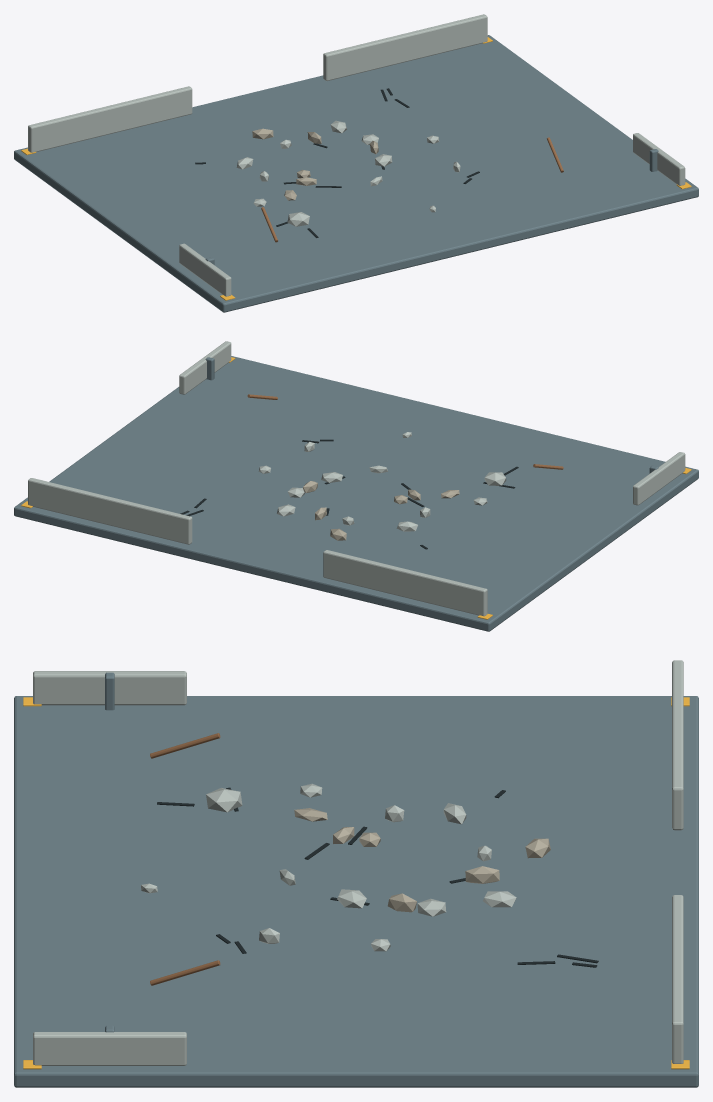
Rendered from industry_garage_d3.glb.
3 renders of one model, top to bottom at view 1: azimuth 30°, elevation 25°; view 2: azimuth 150°, elevation 25°; view 3: azimuth 270°, elevation 25°, orthographic. The views are drawn at different scales.
Visible parts, largest first — view 1: Foundation.027, End bulkhead.068, End bulkhead.069, Side pressure panel.113, Side pressure panel.114; view 2: Foundation.027, End bulkhead.068, End bulkhead.069, Side pressure panel.113, Side pressure panel.114; view 3: Foundation.027, Side pressure panel.114, Side pressure panel.113, End bulkhead.068, End bulkhead.069, Bounded fractured debris.197.
Part boxes in pixels (x1,y1,x2,y2): Foundation.027: (14, 35, 698, 312); End bulkhead.068: (28, 86, 192, 152); End bulkhead.069: (323, 14, 487, 80); Side pressure panel.113: (179, 243, 231, 296); Side pressure panel.114: (633, 133, 685, 185); Foundation.027: (14, 356, 698, 631); End bulkhead.068: (323, 550, 487, 616); End bulkhead.069: (28, 478, 192, 544); Side pressure panel.113: (633, 452, 685, 505); Side pressure panel.114: (179, 341, 231, 394); Foundation.027: (14, 696, 698, 1087); Side pressure panel.114: (33, 1032, 186, 1065); Side pressure panel.113: (33, 671, 186, 705); End bulkhead.068: (672, 660, 683, 830); End bulkhead.069: (672, 895, 683, 1063); Bounded fractured debris.197: (206, 788, 242, 812).
Size of the model in its own units: 17 by 1.22 by 13.
